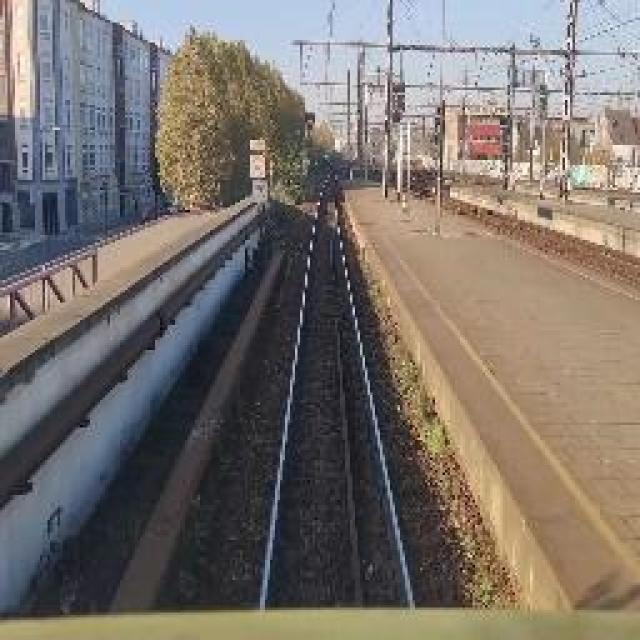rail: (223, 160, 456, 612)
